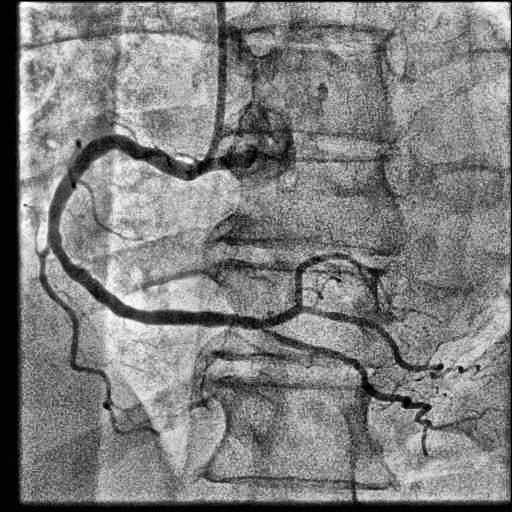pborca: (267, 253, 425, 371)
pda: (262, 328, 431, 426)
rca: (47, 135, 263, 329)
